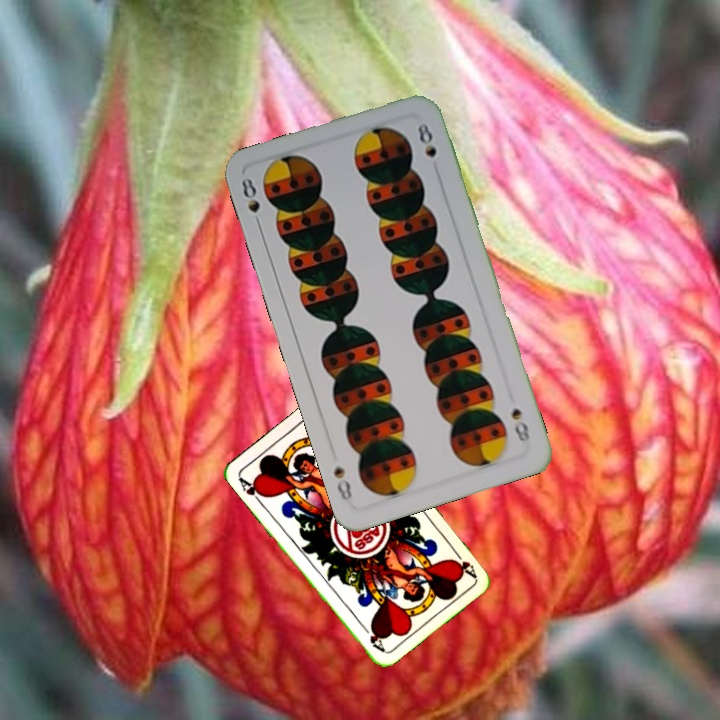HA: (234, 473, 268, 508), (447, 545, 479, 580)
S8: (237, 173, 264, 231), (507, 403, 533, 444)
